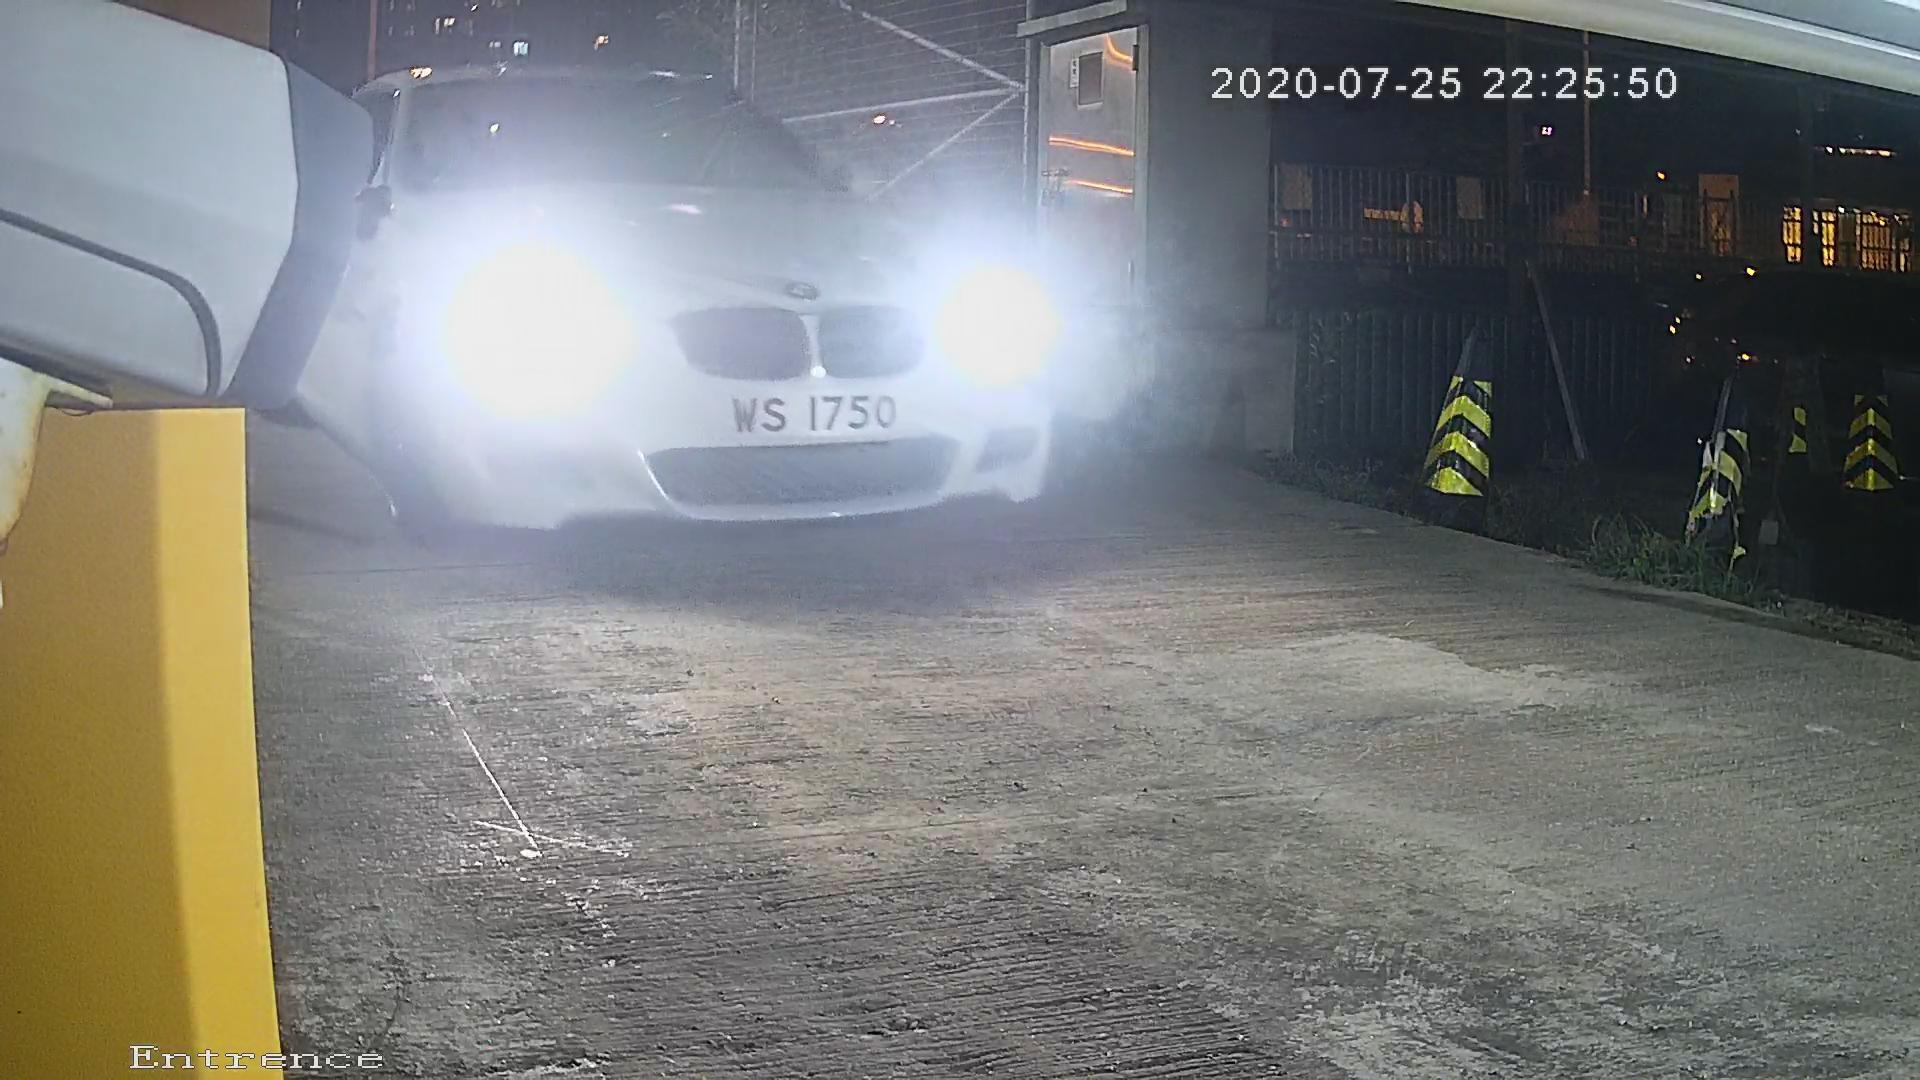privatecar: (291, 44, 1218, 535)
